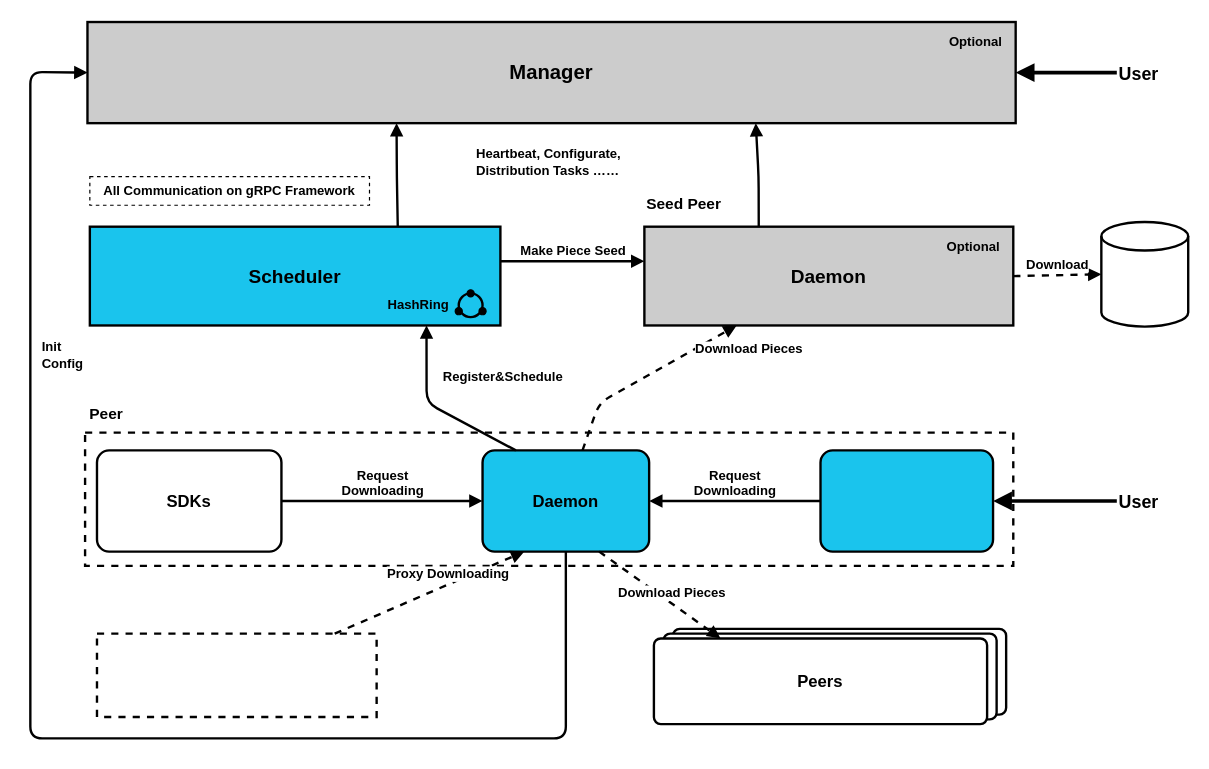
Some shapes in this 1209 by 769 pixel diagram are drawn without their labels. Each missing label, with the centre of its shape:
Containers & Other Download Tools: the point at 236,675
Dfget: the point at 906,500
Source: the point at 1144,273
